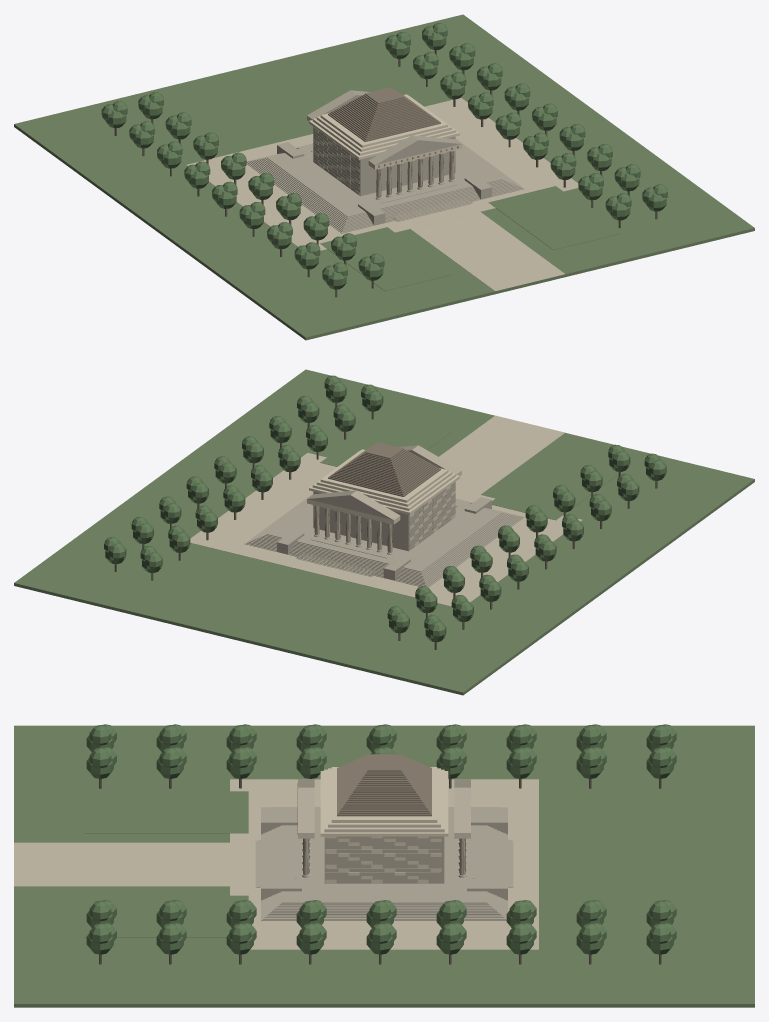
File: shrine.glb
3 renders of one model, top to bottom at view 1: azimuth 30°, elevation 25°; view 2: azimuth 150°, elevation 25°; view 3: azimuth 270°, elevation 25°, orthographic. The views are drawn at different scales.
Visible parts, largest first — view 1: shrine_grass, shrine_leaf, shrine_stone, shrine_path, shrine_darkstone, shrine_lightstone, shrine_bark; view 2: shrine_grass, shrine_leaf, shrine_stone, shrine_path, shrine_darkstone, shrine_lightstone, shrine_bark; view 3: shrine_grass, shrine_leaf, shrine_path, shrine_stone, shrine_lightstone, shrine_darkstone, shrine_bark.
Part boxes in pixels (x1,y1,x2,y2): shrine_grass: (14,14,754,340); shrine_leaf: (101,23,667,289); shrine_stone: (246,90,523,233); shrine_path: (186,98,578,291); shrine_darkstone: (328,87,458,196); shrine_lightstone: (307,94,461,199); shrine_bark: (114,50,657,297); shrine_grass: (14,369,754,695); shrine_leaf: (104,375,666,642); shrine_stone: (245,445,524,587); shrine_path: (190,415,582,606); shrine_darkstone: (314,442,440,551); shrine_lightstone: (307,449,461,554); shrine_bark: (114,402,657,649); shrine_grass: (14,725,754,1007); shrine_leaf: (86,724,676,954); shrine_path: (14,779,538,949); shrine_stone: (255,779,513,920); shrine_lightstone: (298,767,470,883); shrine_darkstone: (297,754,465,873); shrine_bark: (99,779,661,964).
Bounding box in the file's own units: 8 × 1.42 × 9.
